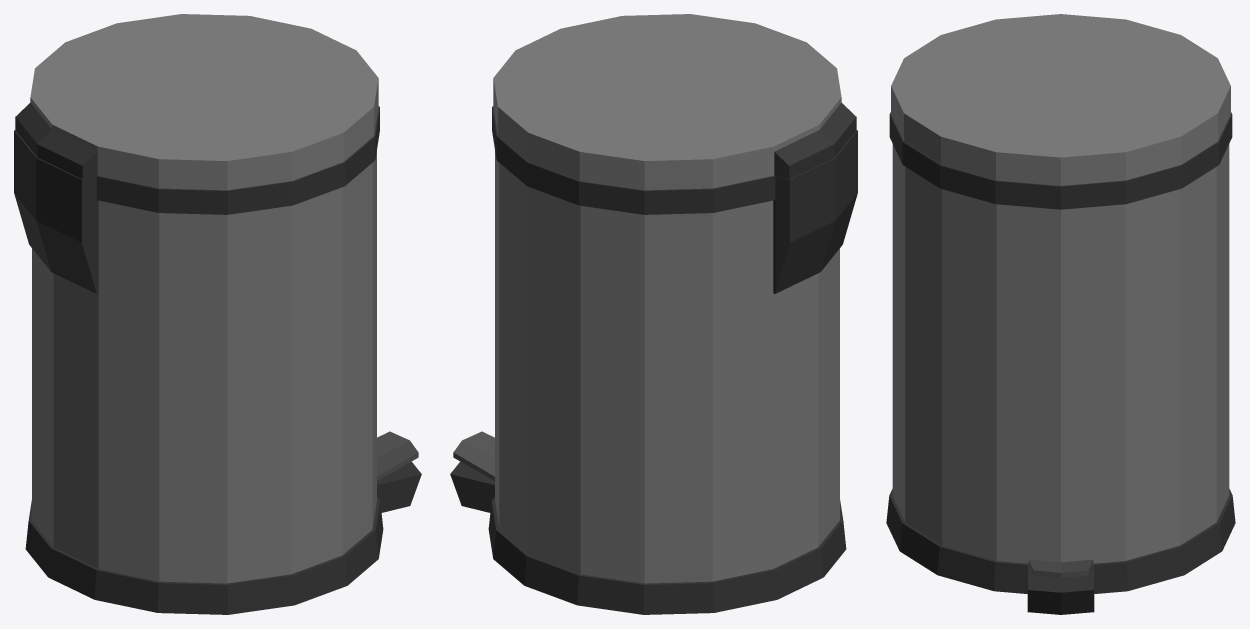
Rendered from Bin_Round_Pedal.fbx.
The picture shows the model from 3 angles, left to right: view 1: azimuth 30°, elevation 25°; view 2: azimuth 150°, elevation 25°; view 3: azimuth 270°, elevation 25°; orthographic projection. The views are drawn at different scales.
Visible parts, largest first — view 1: Base, Lid; view 2: Base, Lid; view 3: Base, Lid.
Part boxes in pixels (<box>): Base: <box>14,106,421,614</box>; Lid: <box>15,14,378,190</box>; Base: <box>450,106,857,614</box>; Lid: <box>493,14,856,190</box>; Base: <box>886,112,1235,614</box>; Lid: <box>891,14,1230,185</box>.
Bounding box in the file's own units: 62.12 × 71.64 × 51.85.
